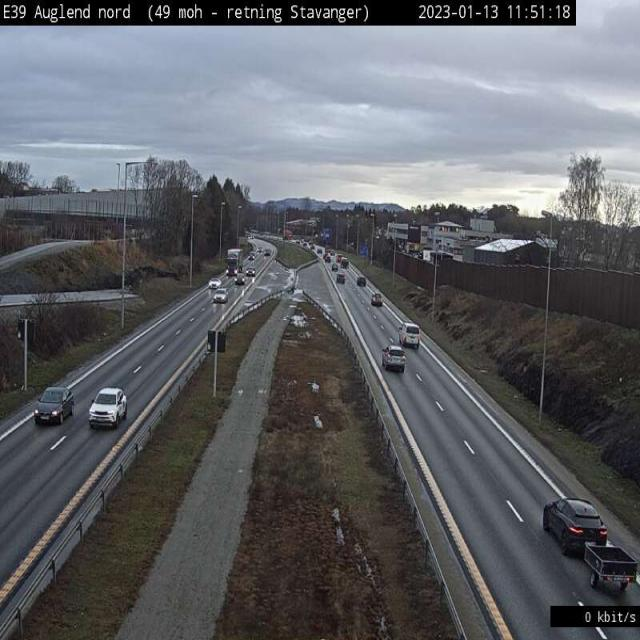car: (542, 497, 609, 554), (583, 541, 639, 594), (88, 387, 128, 430), (88, 387, 127, 430), (34, 386, 72, 426), (34, 394, 66, 426), (382, 345, 407, 372), (399, 323, 421, 349), (212, 288, 228, 304)
